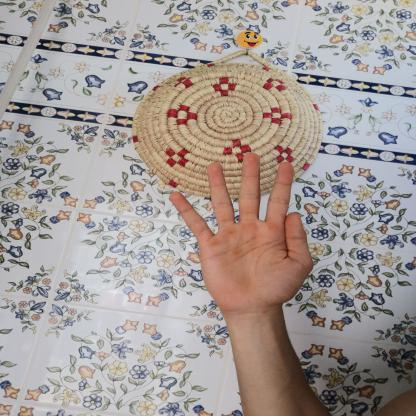SHEEN: (155, 144, 334, 318)
